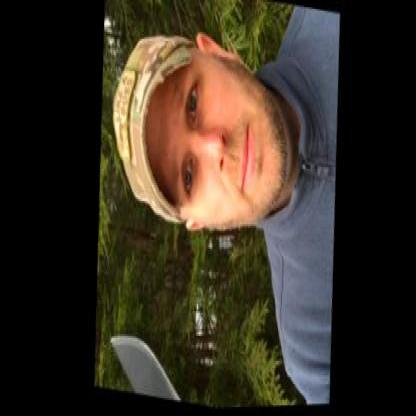knife: (98, 309, 254, 412)
